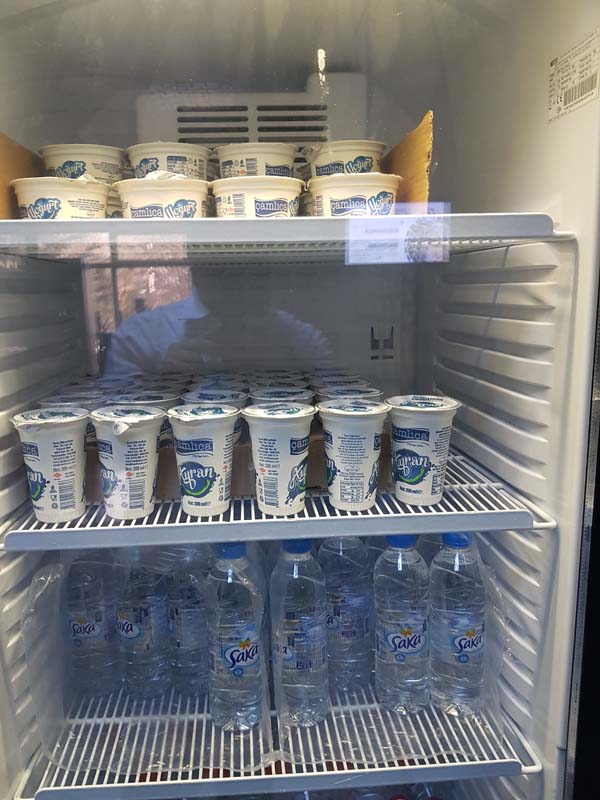camlicaayran: (5, 404, 98, 528), (91, 403, 168, 523), (166, 403, 242, 518), (387, 393, 461, 511), (242, 399, 312, 515), (317, 399, 384, 513)
camlicayogurt: (3, 174, 114, 231), (211, 175, 308, 228), (308, 171, 406, 218), (30, 137, 128, 183), (114, 176, 209, 223), (117, 137, 211, 182), (210, 142, 304, 180), (302, 138, 395, 176)
saka500mlsu: (433, 533, 503, 718), (206, 542, 274, 728), (269, 536, 331, 726), (322, 524, 381, 716), (375, 532, 435, 716), (58, 549, 118, 717), (112, 548, 166, 711), (163, 541, 210, 709)
